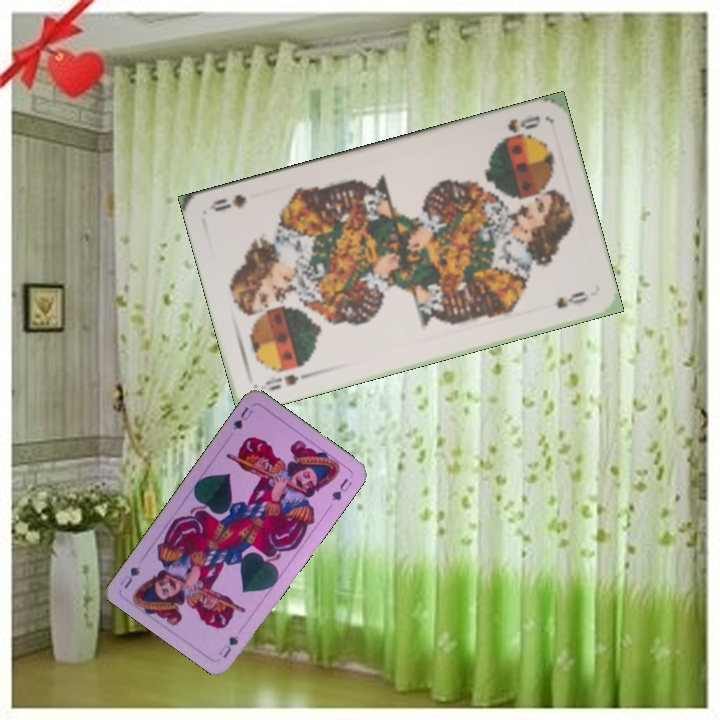GU: (214, 631, 241, 661), (229, 403, 256, 432)
SO: (256, 369, 314, 394), (499, 111, 543, 142)
